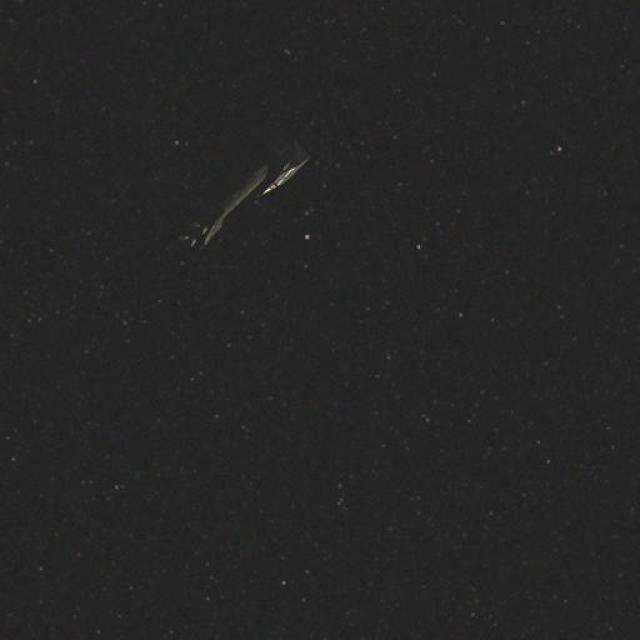xmm_newton: (152, 93, 354, 254)
